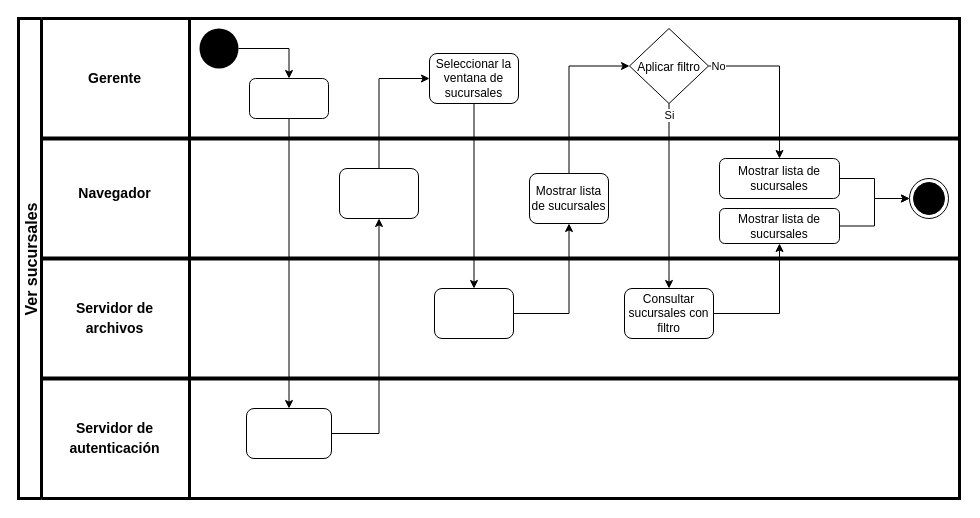
This 980x518 diagram has some shape labels left out. Here are the shapes that lost their labels. From the top down, the box of each, then its label:
(248, 78, 328, 118): Ingresar su usuario
(338, 168, 418, 218): Mostrar la ventana del gerente
(434, 288, 514, 338): Consultar sucursales
(246, 408, 332, 458): Autenticar los permisos de usuario
